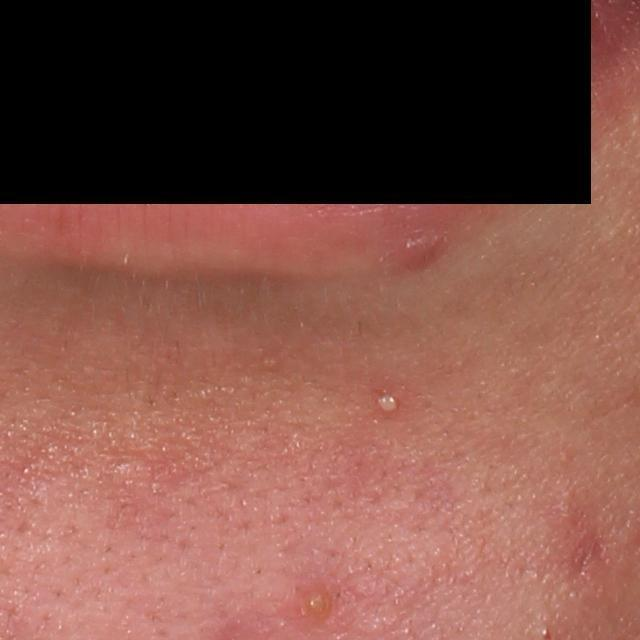papule: (392, 225, 459, 279)
pustule: (291, 580, 346, 625)
